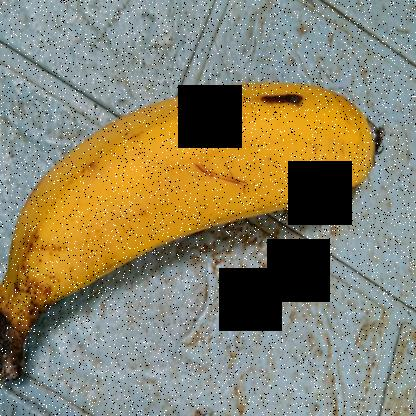freshripe: (3, 66, 387, 314)
